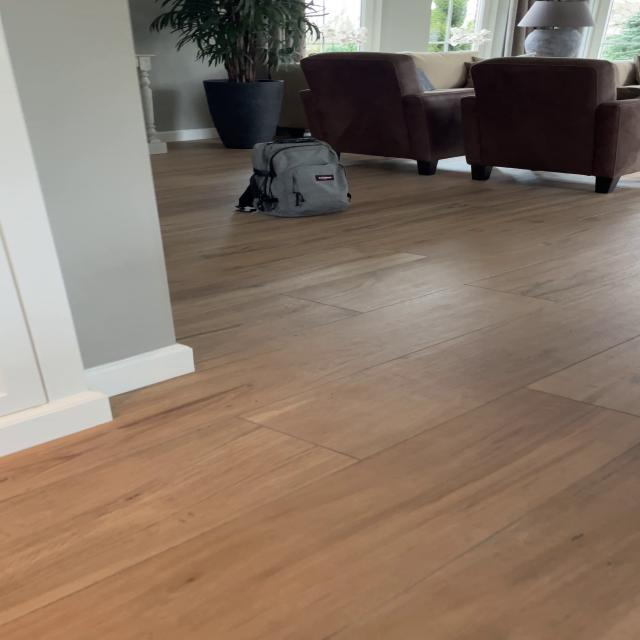backpack: (233, 130, 356, 222)
